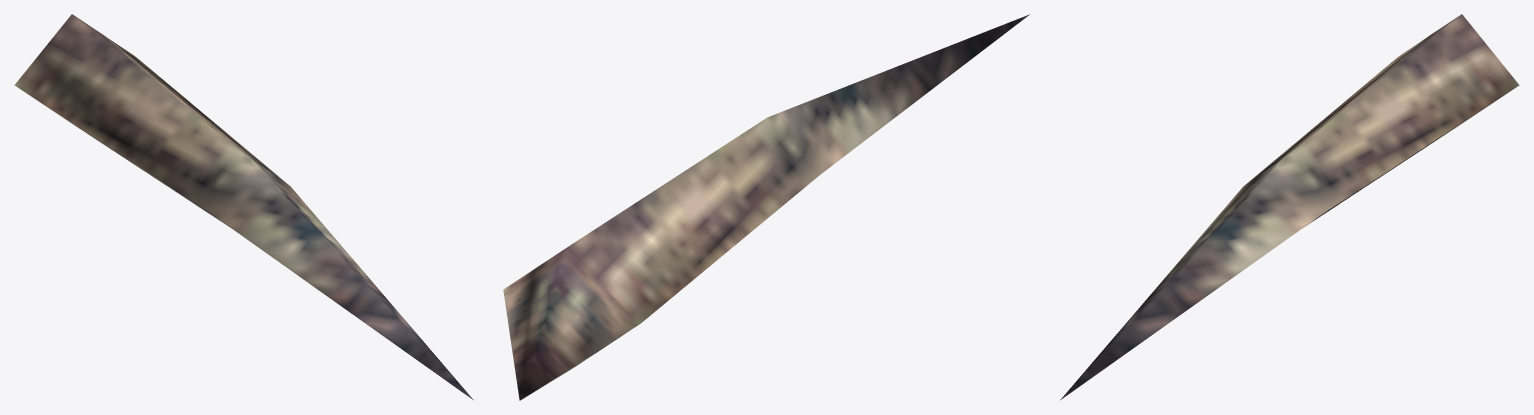
The model's file is deathkara_fishbone.glb.
3 renders of one model, left to right at view 1: azimuth 30°, elevation 25°; view 2: azimuth 150°, elevation 25°; view 3: azimuth 330°, elevation 25°, orthographic. The views are drawn at different scales.
Visible parts, largest first — view 1: deathkara_fishbone; view 2: deathkara_fishbone; view 3: deathkara_fishbone.
Part boxes in pixels (box(x1,y1,x2,y2)): deathkara_fishbone: box(14, 14, 473, 400); deathkara_fishbone: box(503, 14, 1029, 400); deathkara_fishbone: box(1060, 14, 1519, 400).
Bounding box in the file's own units: 1.24 × 1.07 × 7.94.
1 material, 1 textured.
